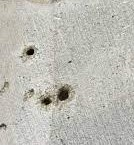Spalling: (53, 83, 76, 106), (20, 44, 40, 64), (22, 87, 36, 103), (39, 94, 53, 108), (1, 81, 10, 95), (1, 123, 7, 131)
